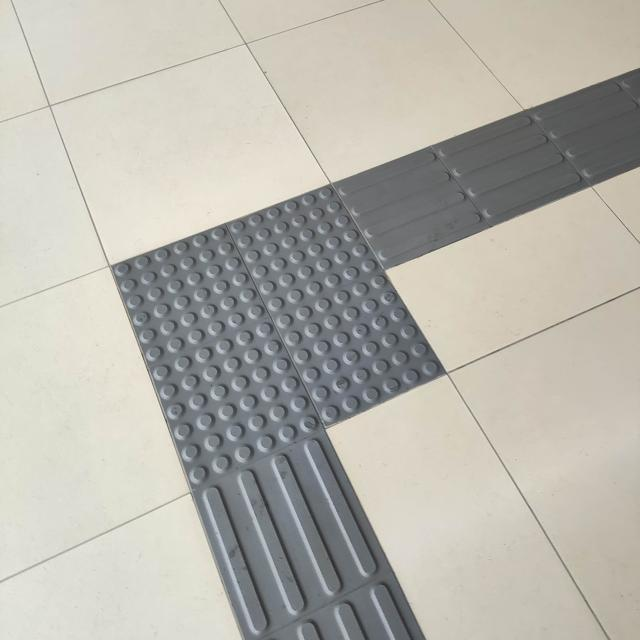kanan: (72, 155, 621, 510)
